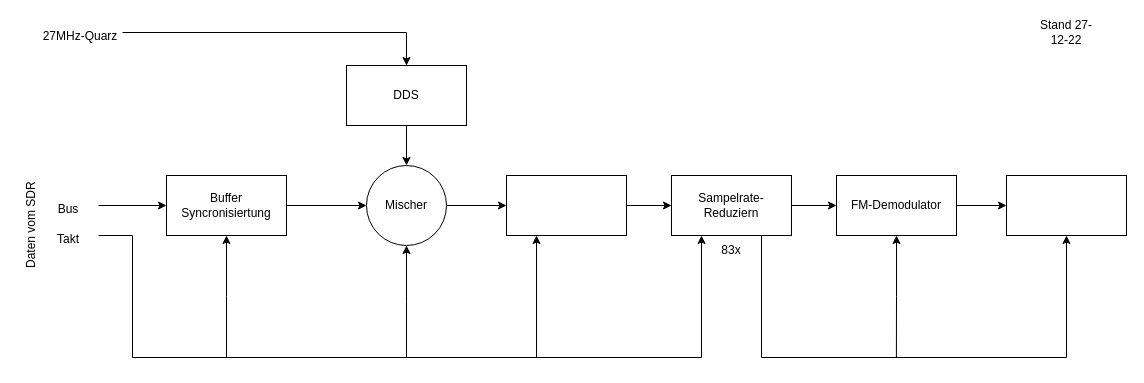
Some shapes in this 1144 by 383 pixel diagram are drawn without their labels. Each missing label, with the box of its shape:
DA: (1006, 174, 1126, 236)
Tiefpass: (506, 174, 626, 236)
